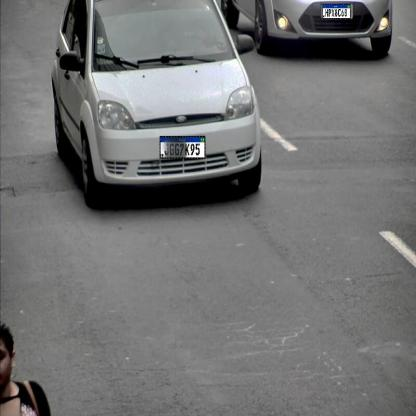PlacaM: (160, 136, 206, 159), (322, 4, 350, 19)
